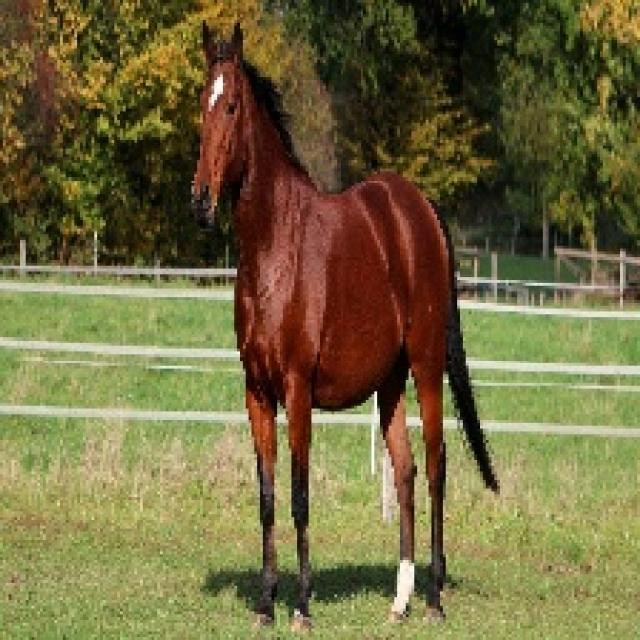animal: (183, 26, 537, 625)
